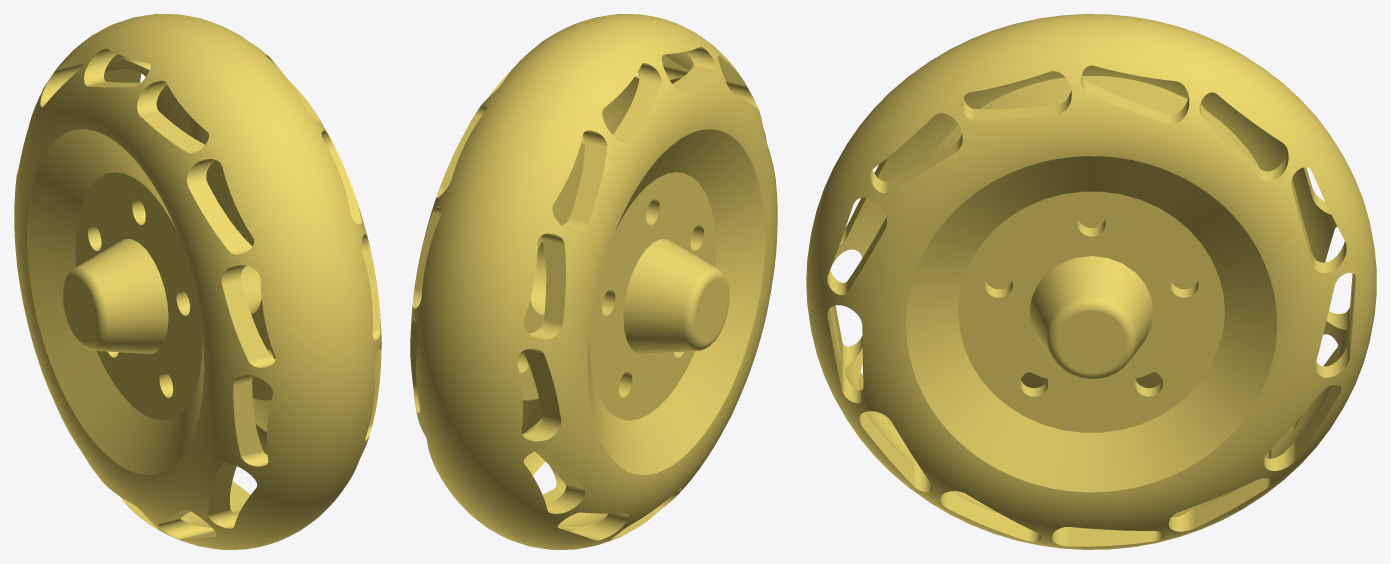
The model's file is practise_6attempt_2.gltf.
3 views of the same model, side by side, from view 1: azimuth 30°, elevation 25°; view 2: azimuth 150°, elevation 25°; view 3: azimuth 270°, elevation 25° (orthographic). The views are drawn at different scales.
Parts seen in each view (by area): view 1: Practise 6attempt 2; view 2: Practise 6attempt 2; view 3: Practise 6attempt 2.
Part boxes in pixels (x1,y1,x2,y2): Practise 6attempt 2: (14, 14, 381, 549); Practise 6attempt 2: (410, 14, 777, 549); Practise 6attempt 2: (806, 14, 1376, 549).
Size of the model in its own units: 0.1 by 0.2 by 0.1999.
